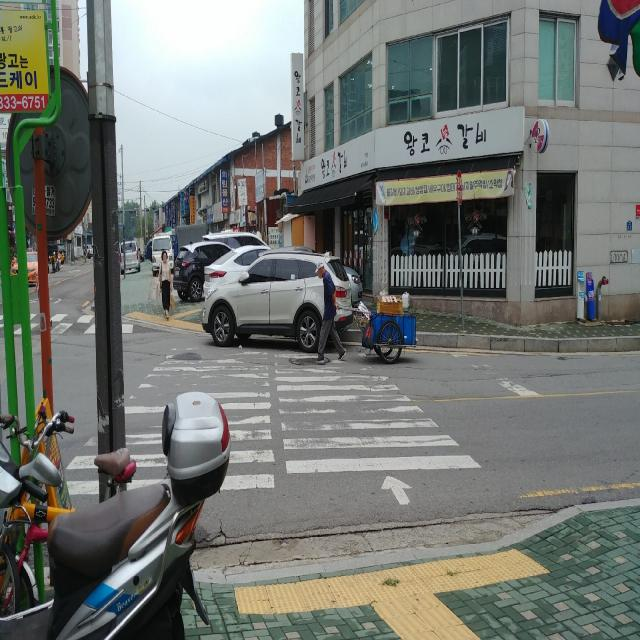횡단보도: (63, 345, 484, 508)
